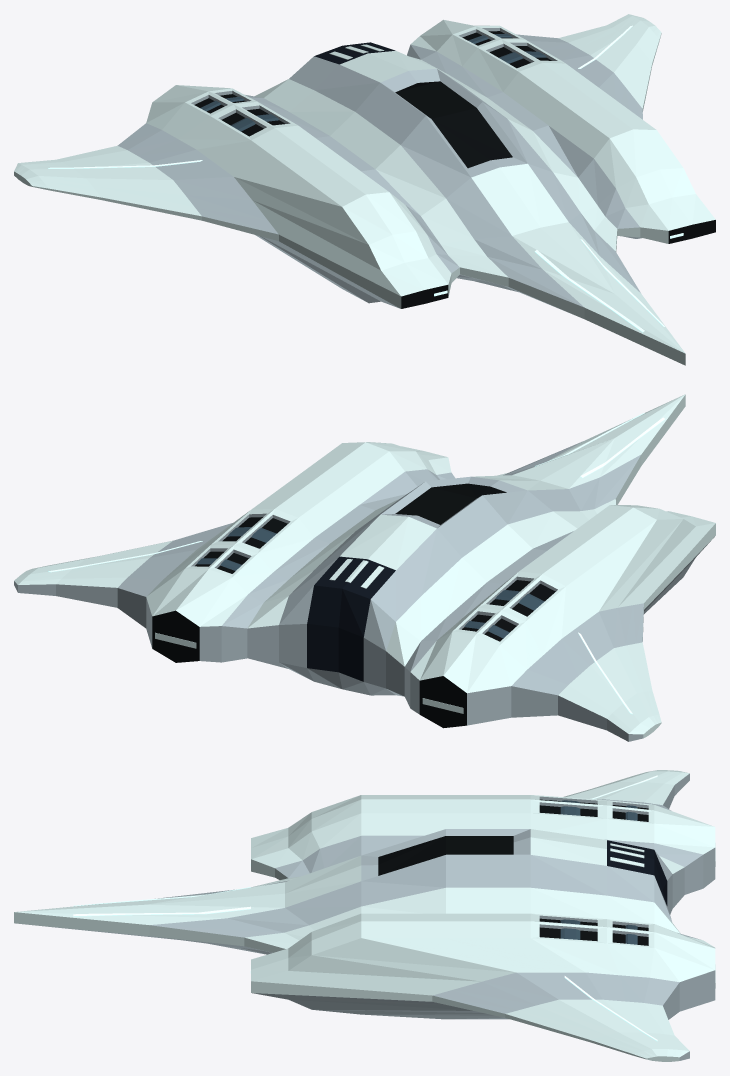
File: SweptDart.fbx
3 renders of one model, top to bottom at view 1: azimuth 30°, elevation 25°; view 2: azimuth 150°, elevation 25°; view 3: azimuth 270°, elevation 25°, orthographic. The views are drawn at different scales.
Parts seen in each view (by area): view 1: Hull_Unified, Permanent_Core; view 2: Hull_Unified, Permanent_Core; view 3: Hull_Unified, Permanent_Core.
Part boxes in pixels (<box>): Hull_Unified: <box>14,14,715,365</box>; Permanent_Core: <box>534,239,665,332</box>; Hull_Unified: <box>14,394,715,741</box>; Permanent_Core: <box>535,413,665,478</box>; Hull_Unified: <box>14,770,715,1061</box>; Permanent_Core: <box>73,887,250,916</box>.
Size of the model in its own units: 4 by 0.79 by 4.14.
